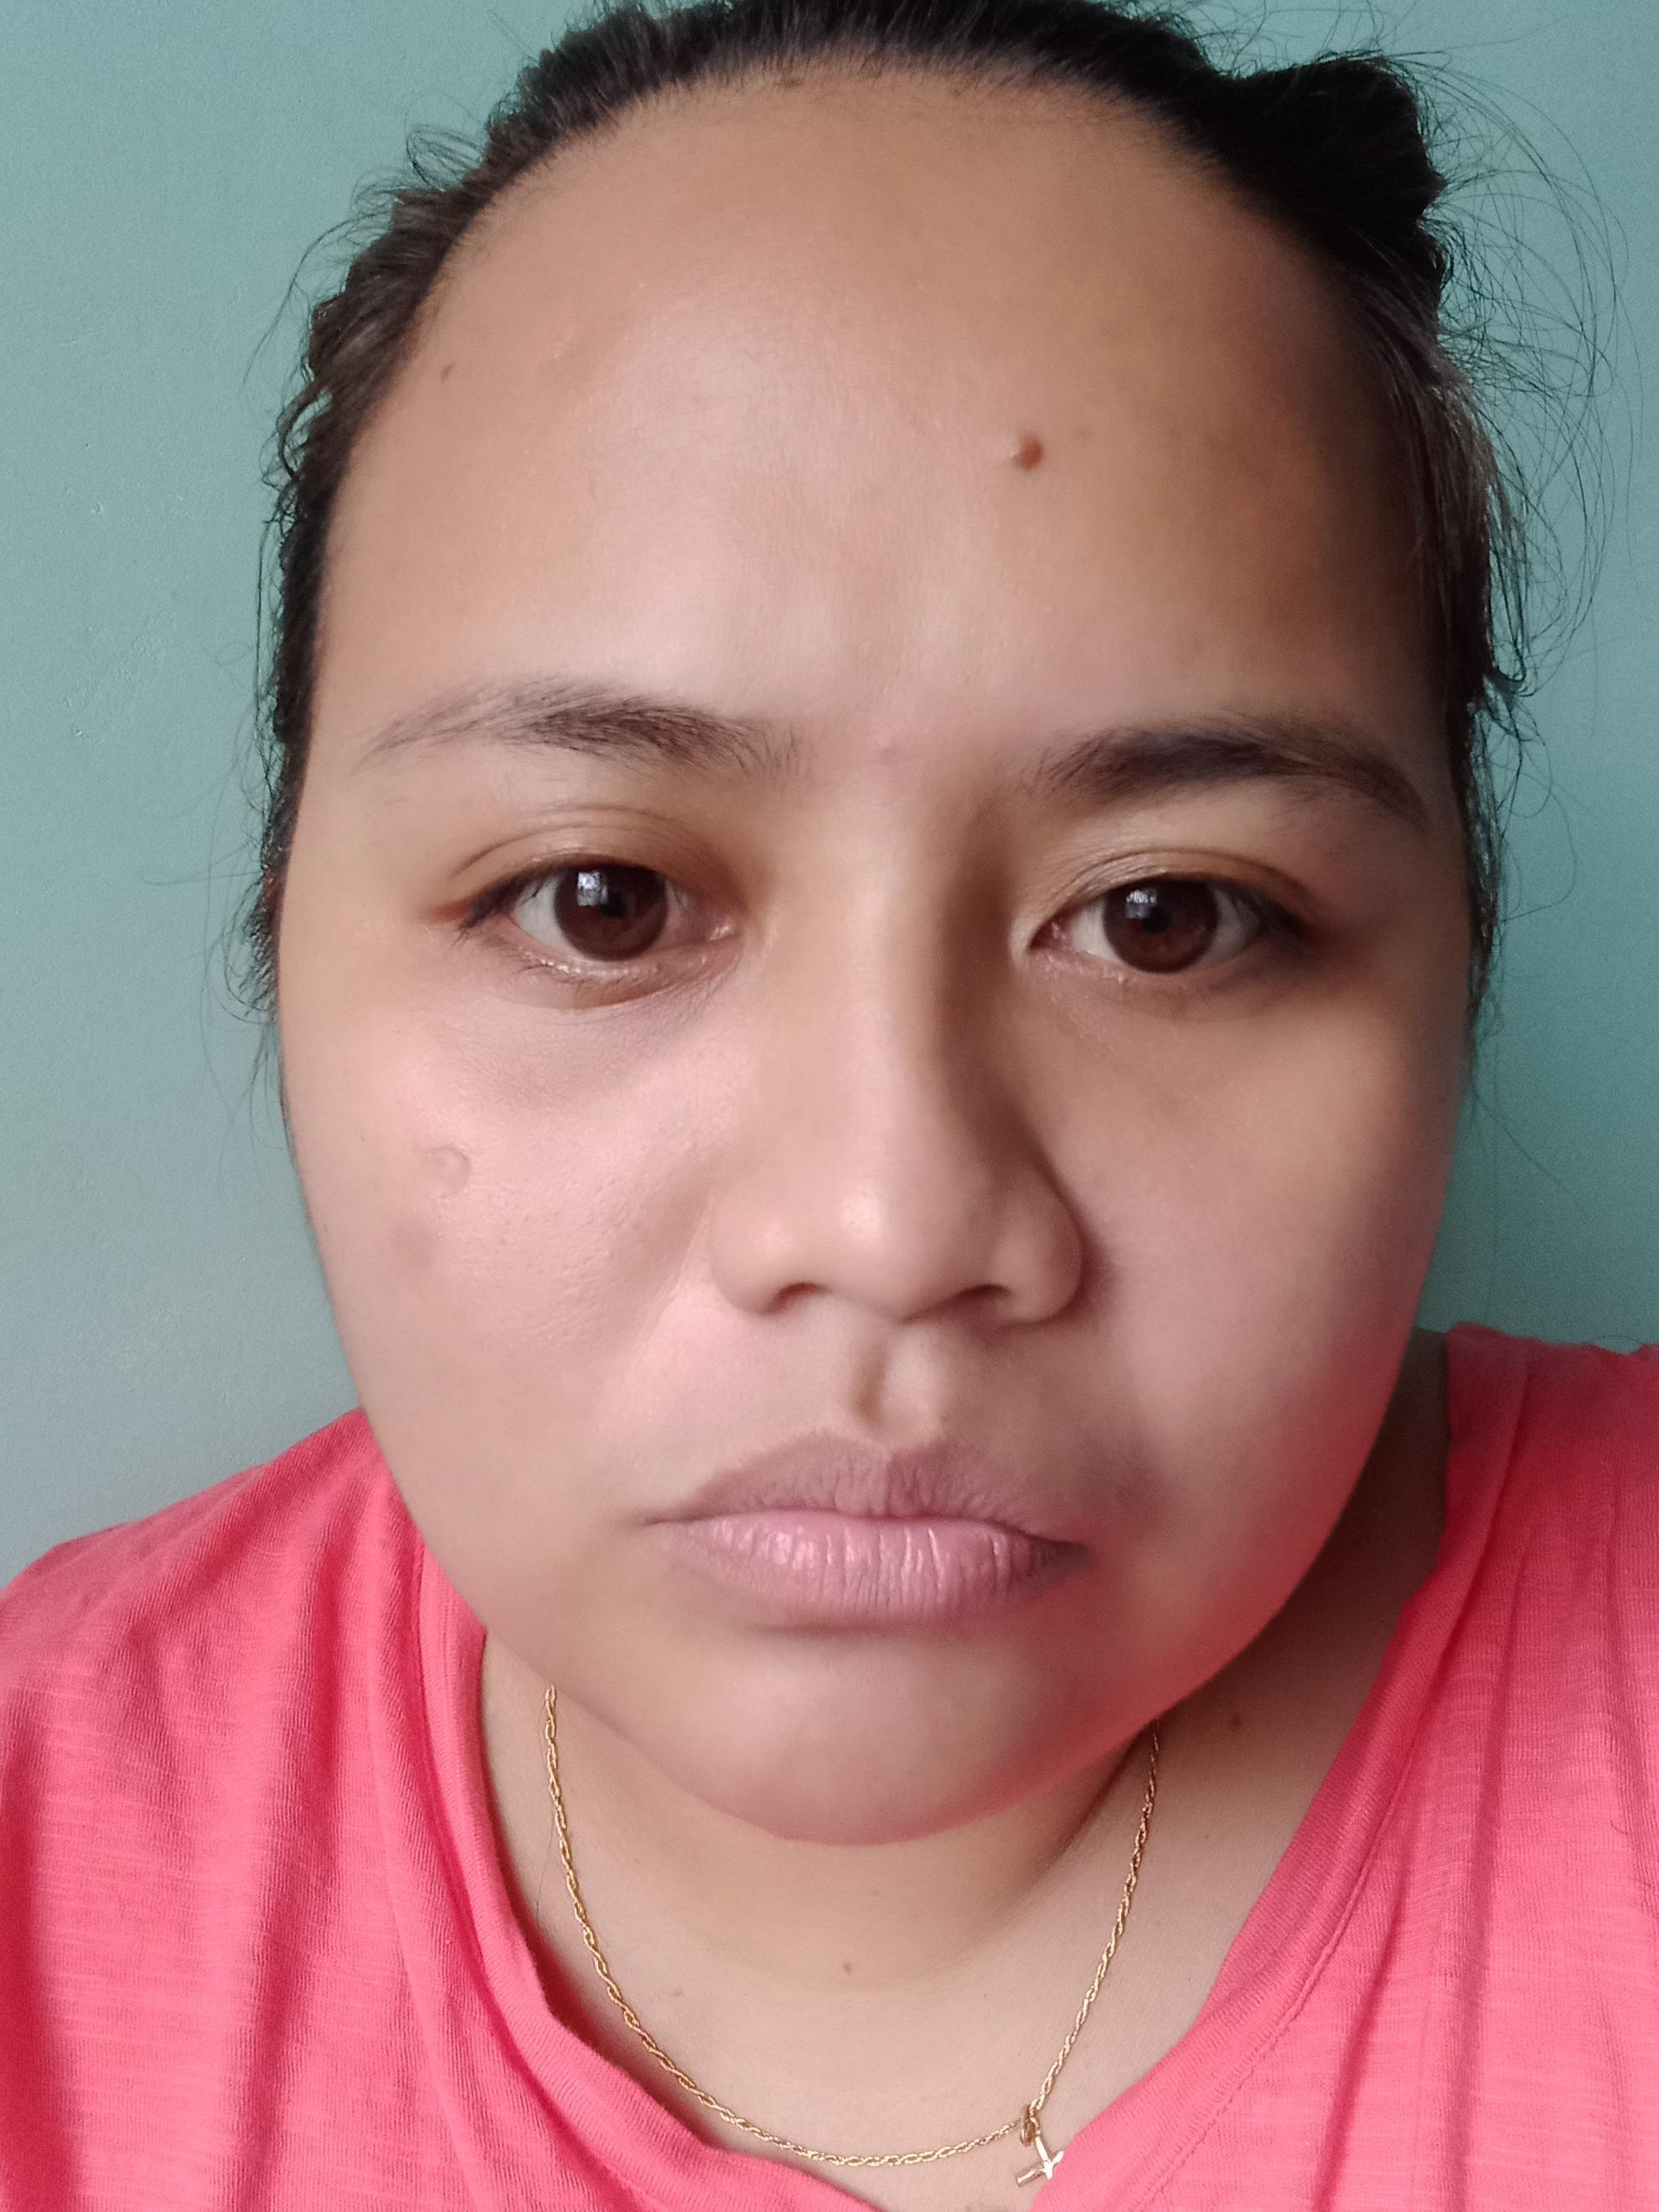Englarged-Pores: (471, 1148, 688, 1355)
Eyebags: (985, 968, 1405, 1129), (413, 968, 791, 1109)
